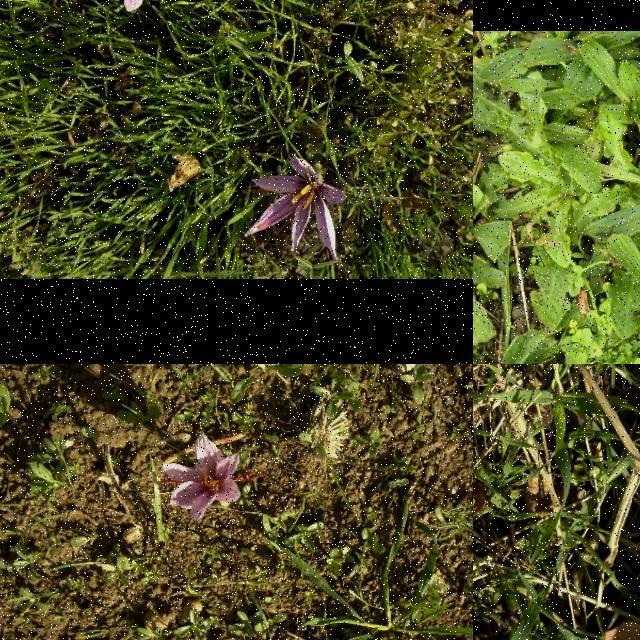flower: (246, 155, 348, 263), (161, 434, 265, 520)
